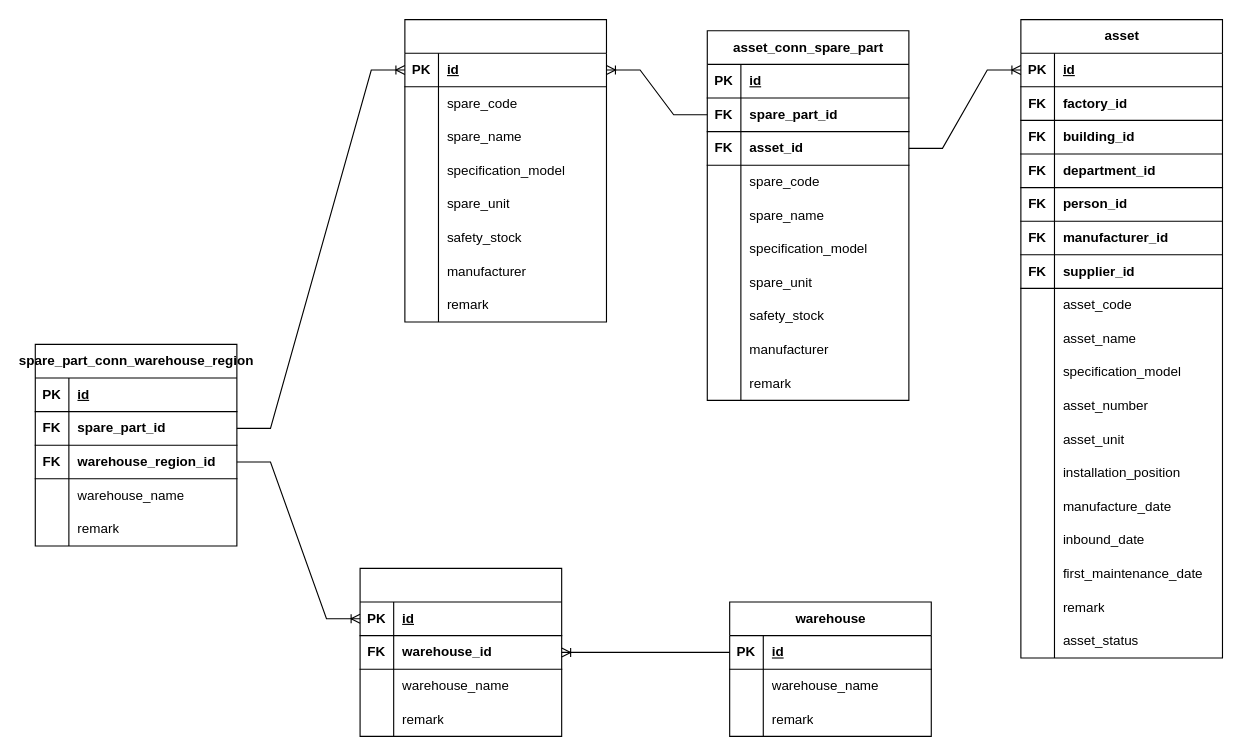
This 1242x756 diagram has some shape labels left out. The box of each missing label's shape, as (x1, y1, x2, y2) in pixels:
spare_part: (404, 18, 606, 322)
warehouse_region: (359, 567, 562, 736)
